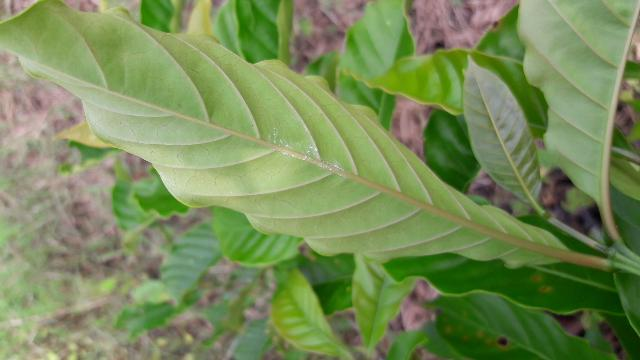healthy: (5, 1, 568, 267)
